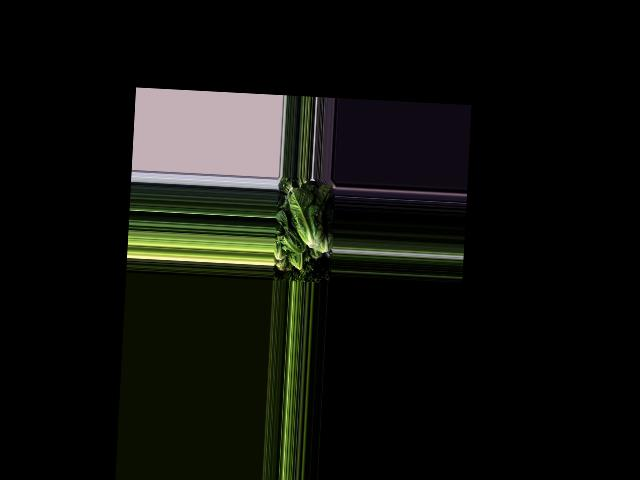lettuce: (276, 208, 307, 255)
